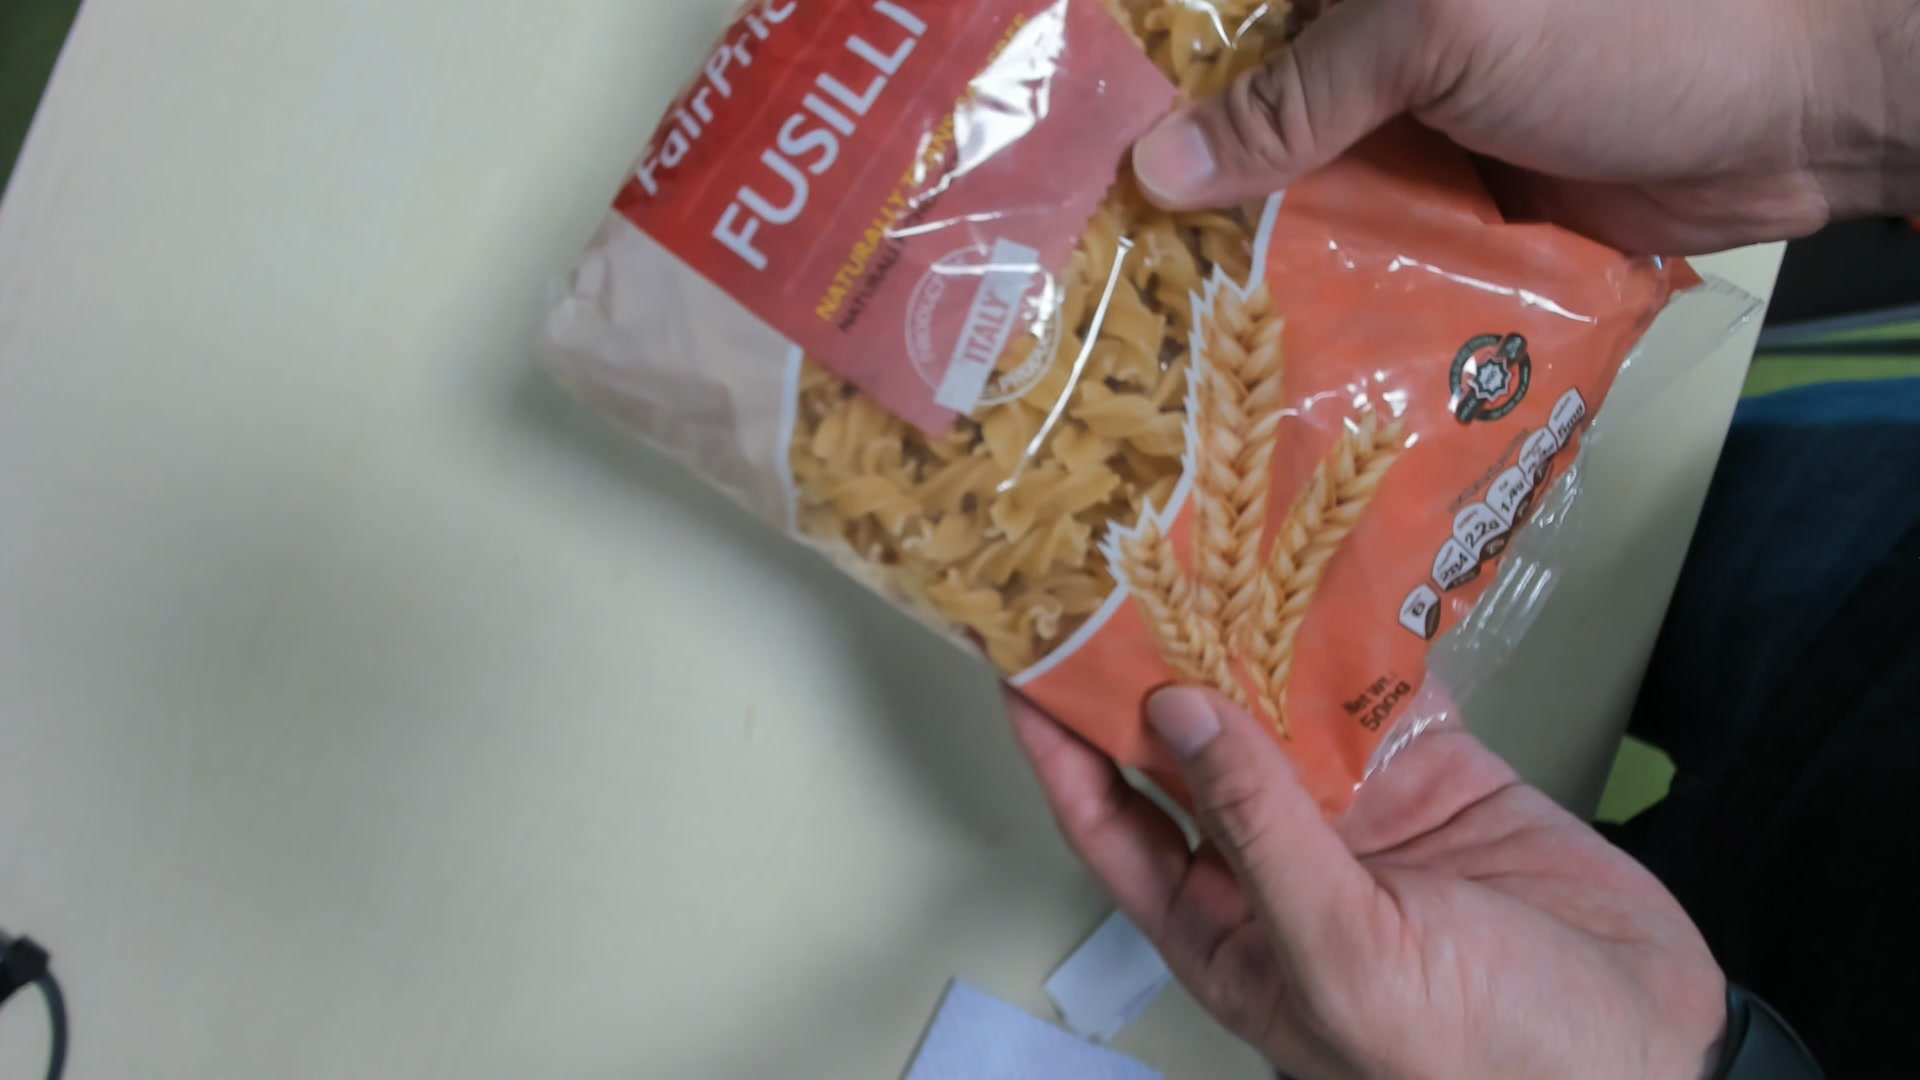Pasta_500-599g_Halal_NonHealthy: (535, 1, 1750, 845)
